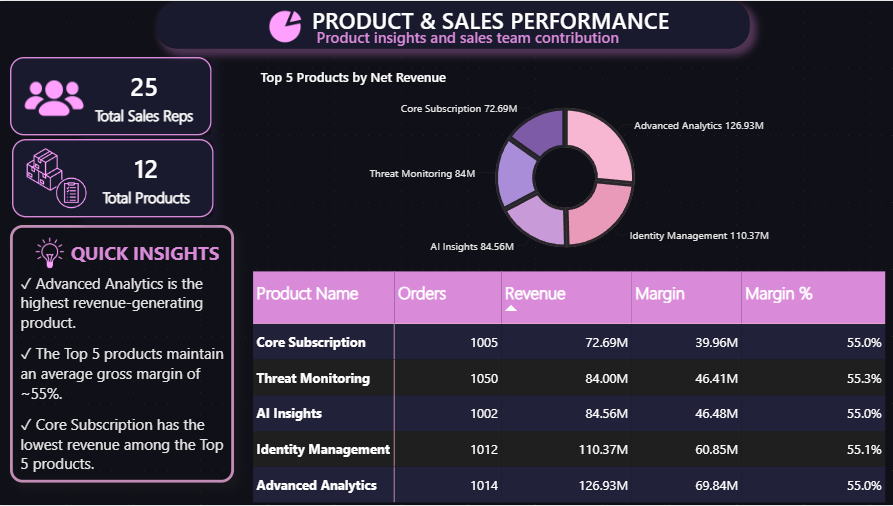

The page's visual inventory and layout, read from the dashboard file:
{"tool":"powerbi","page":{"name":"Product & Sales Performnace","canvas":[1280,720],"ordinal":2},"visuals":[{"type":"textbox","box":[128,128,1008,48],"z":0},{"type":"donutChart","title":"Top 5 Products by Net Revenue","fields":{"Y":["_Measures.Total Revenue"],"Category":["dim_product.Short Product Name"]},"box":[368,96,880,288],"z":1000},{"type":"pivotTable","fields":{"Rows":["dim_product.Short Product Name"],"Values":["_Measures.Total Order","_Measures.Total Revenue","_Measures.Gross Margin","_Measures.Gross Margin %"]},"box":[360,384,912,336],"z":2000},{"type":"textbox","title":"Quick Insights","box":[16,320,320,368],"z":3000},{"type":"shape","box":[16,80,288,112],"z":4000},{"type":"card","fields":{"Values":["_Measures.Total Sales Reps"]},"box":[112,80,192,112],"z":5000},{"type":"image","box":[32,80,96,112],"z":6000},{"type":"shape","box":[18,196.9,288,112],"z":7000},{"type":"card","fields":{"Values":["_Measures.Total Products"]},"box":[114,196.9,192,112],"z":8000},{"type":"image","box":[34,196.9,96,112],"z":9000},{"type":"shape","box":[224,0,848,68],"z":10000},{"type":"textbox","box":[240,0,784,64],"z":11000},{"type":"textbox","box":[448,32,464,48],"z":12000},{"type":"image","box":[368,8,80,56],"z":13000},{"type":"textbox","box":[32,336,288,48],"z":14000},{"type":"image","box":[48,336,48,48],"z":15000}]}

Visuals, with their boxes in screenshot pixels (x1, y1, x2, y2), scaled from the page's 1280x720 canvas onto the 893x506 screenshot:
textbox: bbox=(89, 90, 793, 124)
"Top 5 Products by Net Revenue" donutChart: bbox=(257, 67, 871, 270)
pivotTable - dim_product.Short Product Name x _Measures.Total Order: bbox=(251, 270, 887, 505)
"Quick Insights" textbox: bbox=(11, 225, 234, 484)
shape: bbox=(11, 56, 212, 135)
card - _Measures.Total Sales Reps: bbox=(78, 56, 212, 135)
image: bbox=(22, 56, 89, 135)
shape: bbox=(13, 138, 213, 217)
card - _Measures.Total Products: bbox=(80, 138, 213, 217)
image: bbox=(24, 138, 91, 217)
shape: bbox=(156, 0, 748, 48)
textbox: bbox=(167, 0, 714, 45)
textbox: bbox=(313, 22, 636, 56)
image: bbox=(257, 6, 313, 45)
textbox: bbox=(22, 236, 223, 270)
image: bbox=(33, 236, 67, 270)
